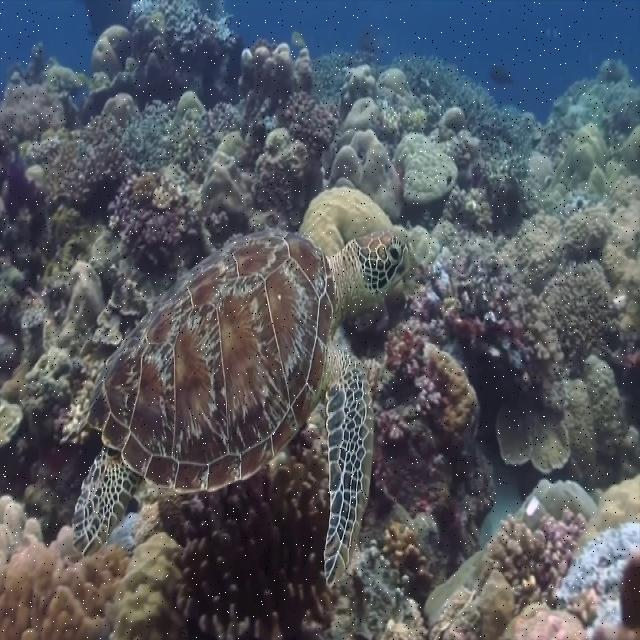fish: (72, 228, 409, 588)
reefs: (314, 49, 639, 489), (328, 274, 639, 639), (1, 1, 338, 274), (0, 405, 333, 639), (0, 123, 174, 544), (300, 65, 483, 264)
